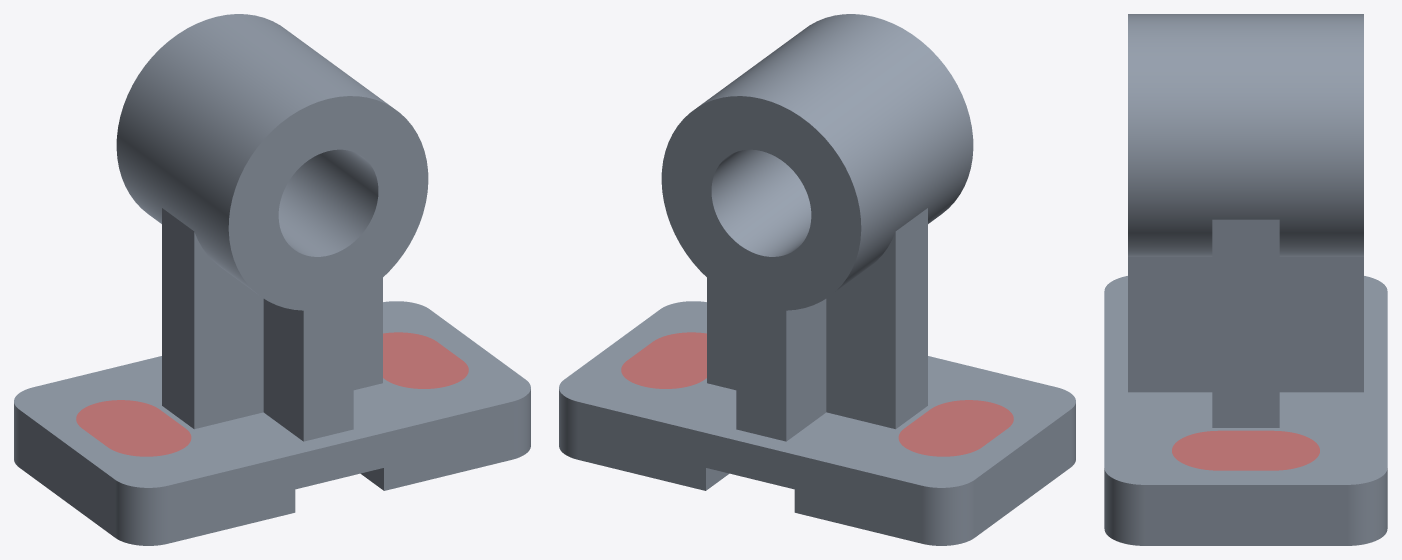
The model's file is step_07.glb.
3 views of the same model, side by side, from view 1: azimuth 30°, elevation 25°; view 2: azimuth 150°, elevation 25°; view 3: azimuth 270°, elevation 25° (orthographic). The views are drawn at different scales.
Visible parts, largest first — view 1: part__pedestal bearing, removed__pedestal bearing; view 2: part__pedestal bearing, removed__pedestal bearing; view 3: part__pedestal bearing, removed__pedestal bearing.
Boxes of the visible parts, bbox=[...] form: part__pedestal bearing: bbox=[14, 14, 530, 545]; removed__pedestal bearing: bbox=[76, 332, 468, 456]; part__pedestal bearing: bbox=[559, 14, 1075, 545]; removed__pedestal bearing: bbox=[621, 332, 1013, 456]; part__pedestal bearing: bbox=[1104, 14, 1387, 545]; removed__pedestal bearing: bbox=[1172, 430, 1319, 470].
Bounding box in the file's own units: 74 × 68 × 42.
